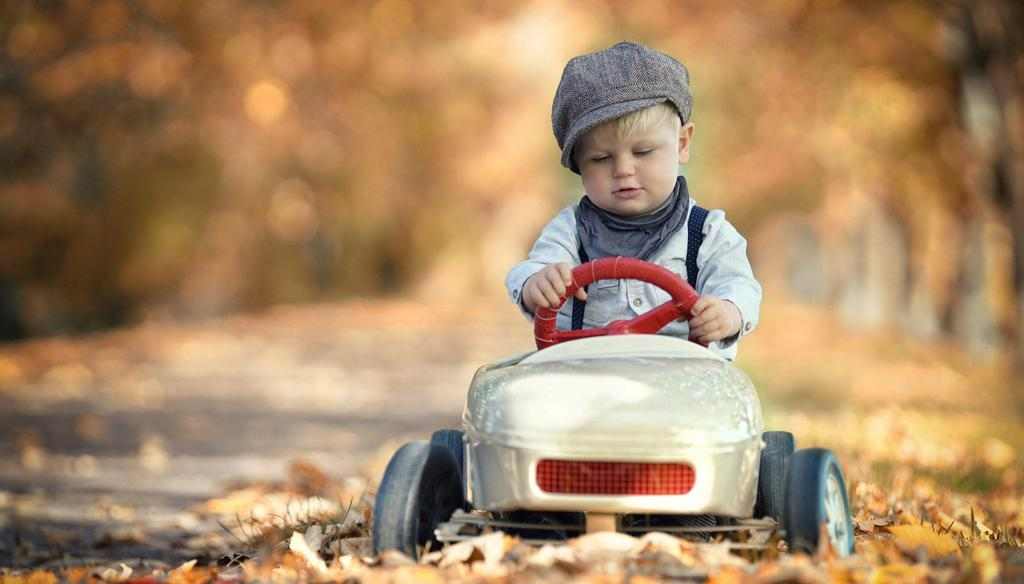child: (474, 39, 778, 349)
